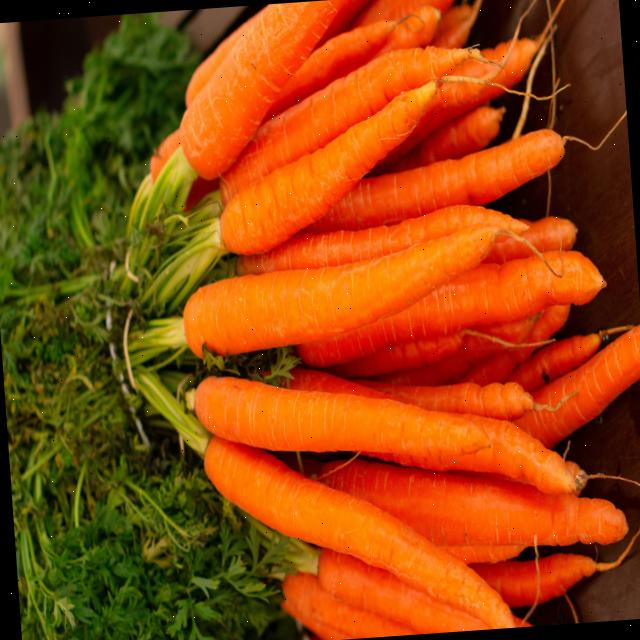carrot: (203, 434, 514, 629), (183, 223, 501, 356), (219, 80, 437, 253), (297, 249, 606, 366), (180, 0, 360, 177), (324, 458, 628, 545), (194, 375, 489, 455)
